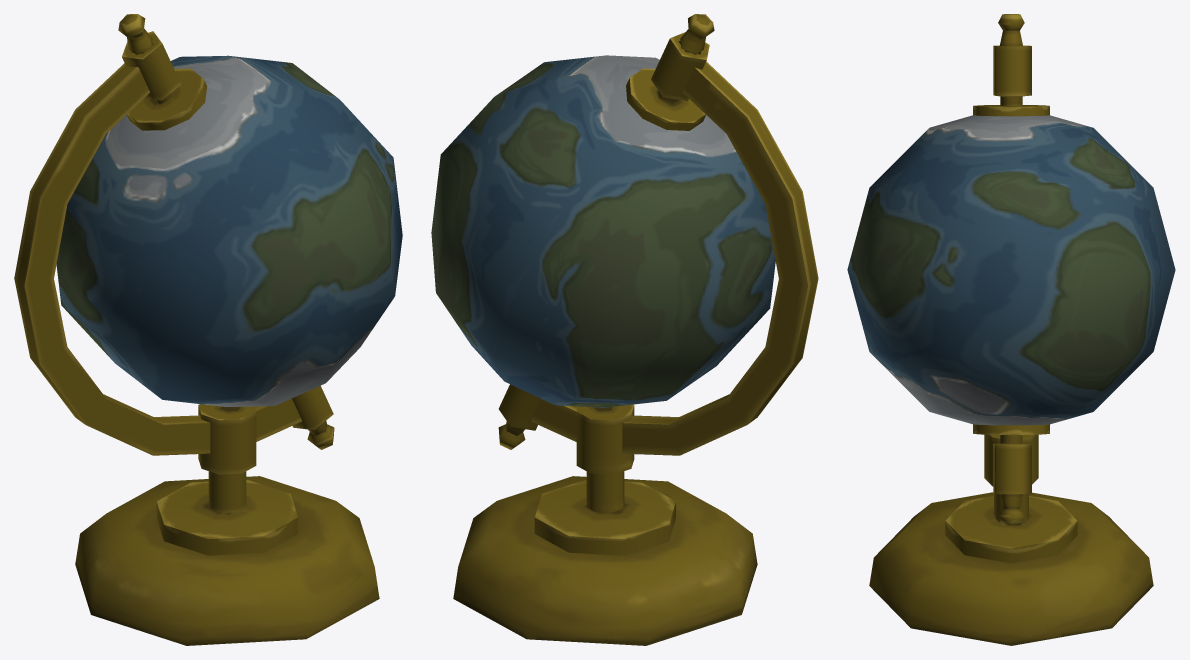
Rendered from SM_PROP_globe_interior.fbx.
3 renders of one model, left to right at view 1: azimuth 30°, elevation 25°; view 2: azimuth 150°, elevation 25°; view 3: azimuth 270°, elevation 25°, orthographic. The views are drawn at different scales.
Parts seen in each view (by area): view 1: SM_PROP_globe_sphere_interior, SM_PROP_globe_interior; view 2: SM_PROP_globe_sphere_interior, SM_PROP_globe_interior; view 3: SM_PROP_globe_sphere_interior, SM_PROP_globe_interior.
Part boxes in pixels (bbox=[...]): SM_PROP_globe_sphere_interior: bbox=[56, 14, 402, 449]; SM_PROP_globe_interior: bbox=[14, 31, 379, 645]; SM_PROP_globe_sphere_interior: bbox=[431, 14, 775, 449]; SM_PROP_globe_interior: bbox=[453, 32, 818, 645]; SM_PROP_globe_sphere_interior: bbox=[847, 14, 1175, 525]; SM_PROP_globe_interior: bbox=[869, 45, 1153, 645].
Bounding box in the file's own units: 46.3 × 72.66 × 40.62.
